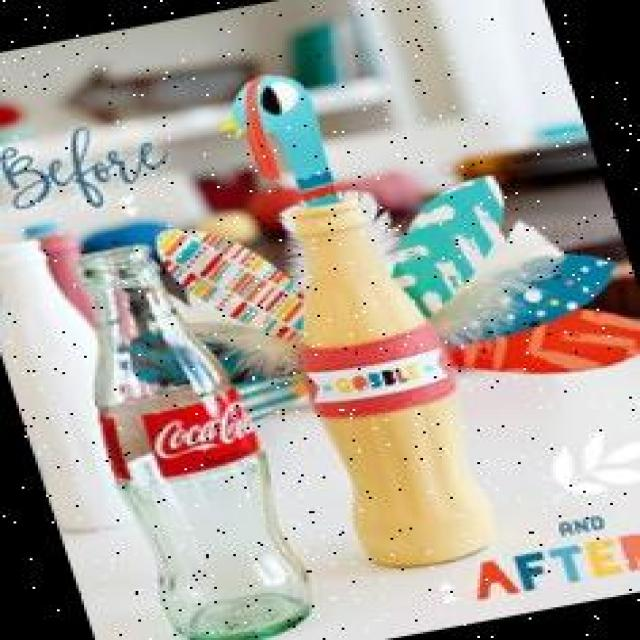coca-cola: (29, 208, 328, 640)
